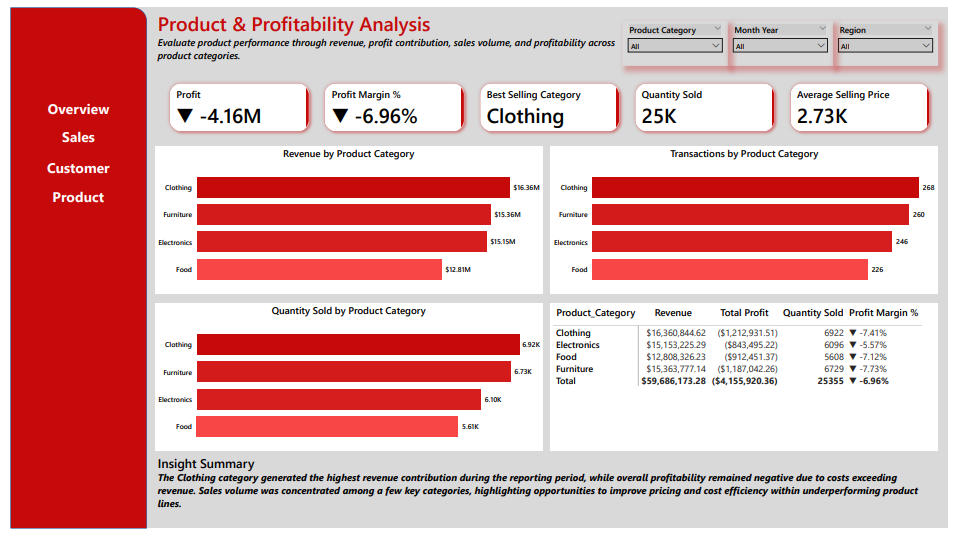

What the dashboard file says about the page in this screenshot:
{"tool":"powerbi","page":{"name":"Product & Profitability","canvas":[1800,1000],"ordinal":3},"visuals":[{"type":"cardVisual","fields":{"Data":["Measure Table.Profit","Measure Table.Profit Margin %","Measure Table.Best Selling Category","Measure Table.Quantity Sold","Measure Table.Average Selling Price"]},"box":[278.4,117.6,1519.2,148.8],"z":0},{"type":"textbox","box":[278,0,896,118],"z":1000},{"type":"slicer","fields":{"Values":["sales_data.Product_Category"]},"box":[1176,26,202,86],"z":2000},{"type":"slicer","fields":{"Values":["sales_data.Region"]},"box":[1580,26,202,86],"z":3000},{"type":"slicer","fields":{"Values":["sales_data.Month Year"]},"box":[1378,26,202,86],"z":4000},{"type":"barChart","title":"Revenue by Product Category","fields":{"Y":["Measure Table.Revenue"],"Category":["sales_data.Product_Category"]},"box":[278,266,744,284],"z":5000},{"type":"barChart","title":"Quantity Sold by Product Category","fields":{"Y":["Measure Table.Quantity Sold"],"Category":["sales_data.Product_Category"]},"box":[278,568,744,284],"z":6000},{"type":"pivotTable","fields":{"Rows":["sales_data.Product_Category"],"Values":["Measure Table.Revenue","Measure Table.Total Profit","Measure Table.Quantity Sold","Measure Table.Profit Margin %"]},"box":[1038,568,744,284],"z":7000},{"type":"barChart","title":"Transactions by Product Category","fields":{"Category":["sales_data.Product_Category"],"Y":["Measure Table.Total Transactions"]},"box":[1038,266,744,284],"z":8000},{"type":"textbox","box":[278,852,1504,148],"z":9000},{"type":"shape","box":[0,0,262,1000],"z":10000},{"type":"actionButton","box":[0,171,262,41],"z":11000},{"type":"actionButton","box":[0,226,262,40],"z":12000},{"type":"actionButton","box":[0,283.6,261.5,40.2],"z":13000},{"type":"actionButton","box":[0,339.9,261.5,40.2],"z":14000}]}

Visuals, with their boxes in screenshot pixels (x1, y1, x2, y2), scaled from the page's 1800x1000 canvas onto the 956x534 screenshot:
cardVisual - Measure Table.Profit x Measure Table.Profit Margin %: 148:63:955:142
textbox: 148:0:624:63
slicer - sales_data.Product_Category: 625:14:732:60
slicer - sales_data.Region: 839:14:946:60
slicer - sales_data.Month Year: 732:14:839:60
"Revenue by Product Category" barChart: 148:142:543:294
"Quantity Sold by Product Category" barChart: 148:303:543:455
pivotTable - sales_data.Product_Category x Measure Table.Revenue: 551:303:946:455
"Transactions by Product Category" barChart: 551:142:946:294
textbox: 148:455:946:533
shape: 0:0:139:533
actionButton: 0:91:139:113
actionButton: 0:121:139:142
actionButton: 0:151:139:173
actionButton: 0:182:139:203
